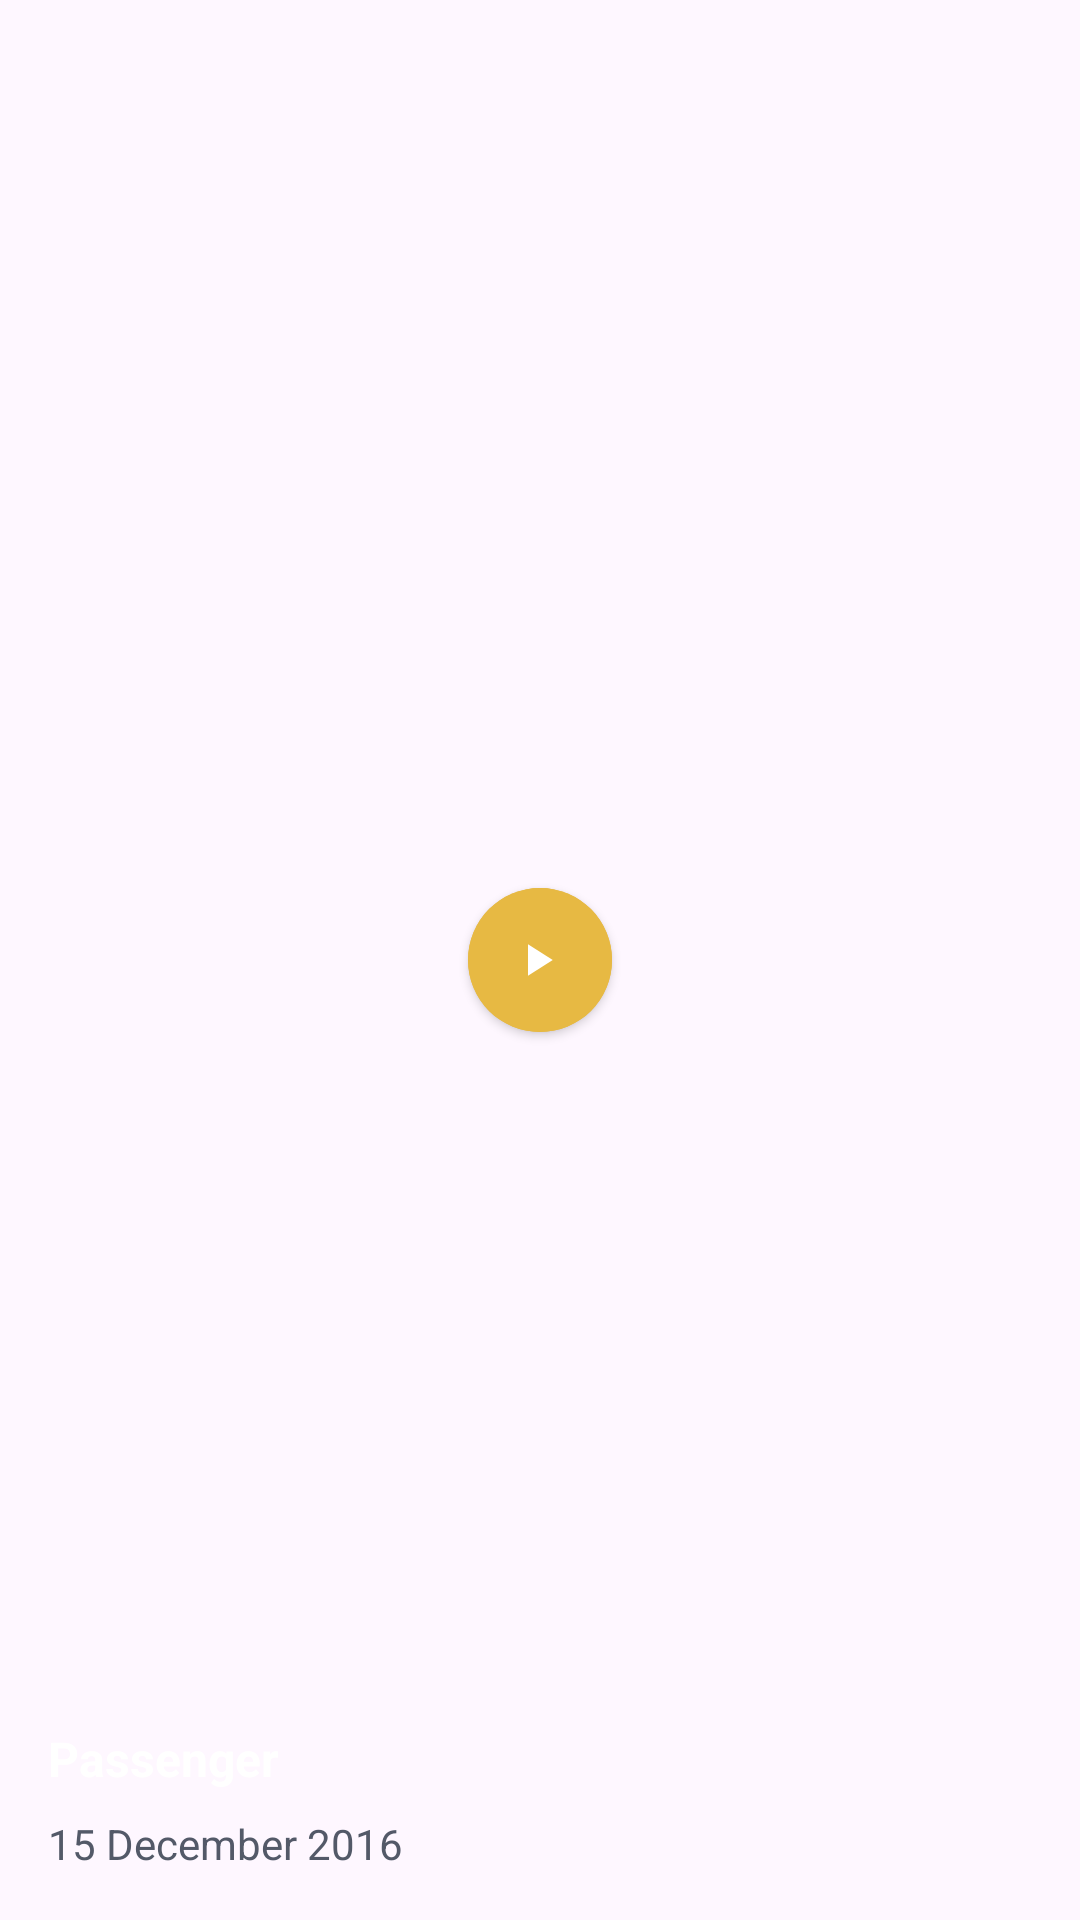

Locate icon controls on the screen. Image size 1080*1920, boxes as BBox(x1, y1, x2, y2).
play arrow: BBox(468, 888, 612, 1032)
